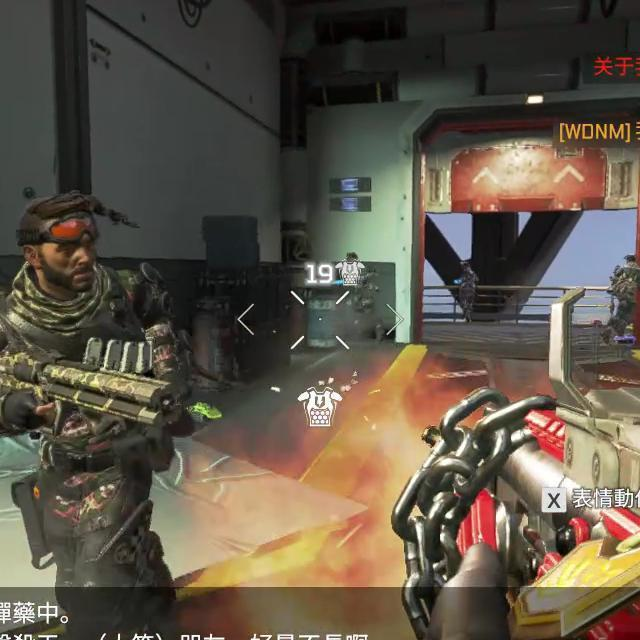avatar: (1, 191, 183, 587)
